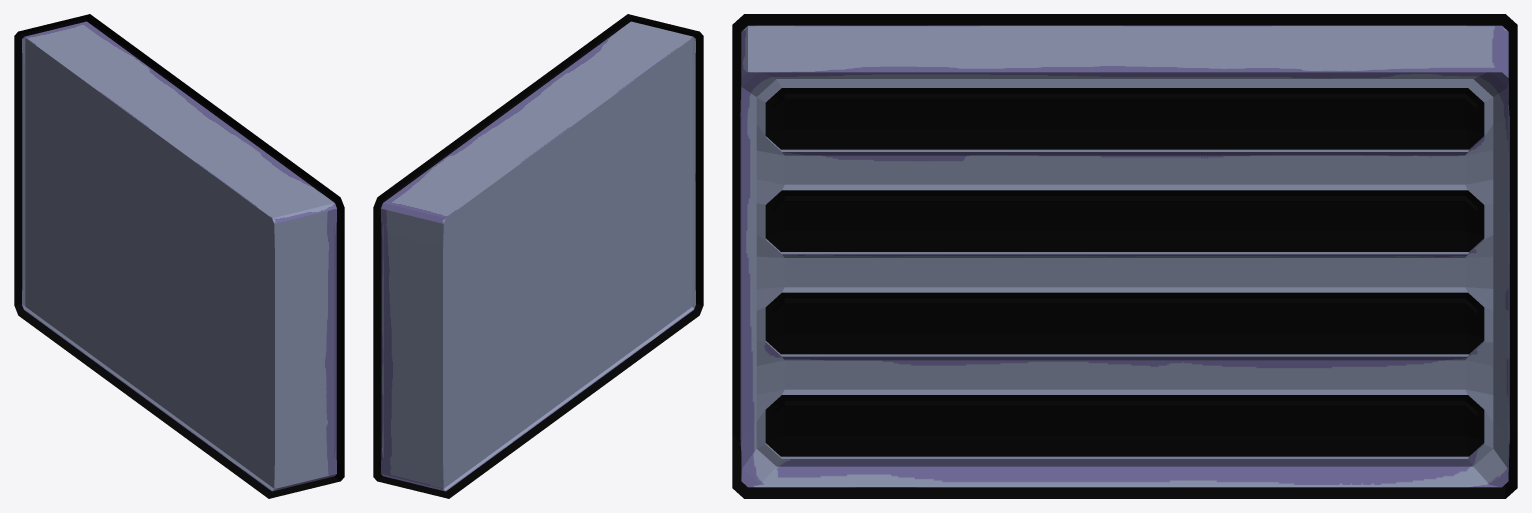
File: VentV1.fbx
3 renders of one model, left to right at view 1: azimuth 30°, elevation 25°; view 2: azimuth 150°, elevation 25°; view 3: azimuth 270°, elevation 25°, orthographic. The views are drawn at different scales.
Visible parts, largest first — view 1: Vent; view 2: Vent; view 3: Vent.
Part boxes in pixels (x1,y1,x2,y2): Vent: (14,14,344,498); Vent: (373,14,703,498); Vent: (732,14,1517,498).
Size of the model in its own units: 5 by 18.8 by 31.
Materials: 2 (1 with a texture image).
